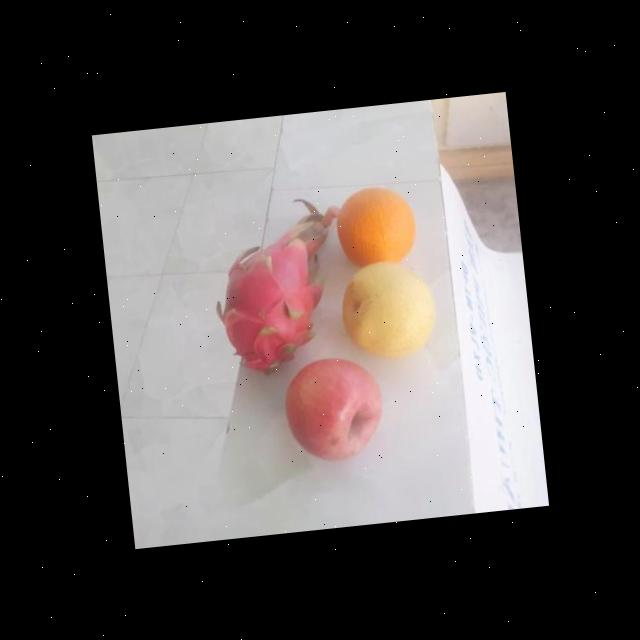apple: (275, 350, 393, 468)
orange: (330, 178, 422, 268)
pear: (334, 252, 446, 364)
pitaya: (208, 232, 338, 374)
